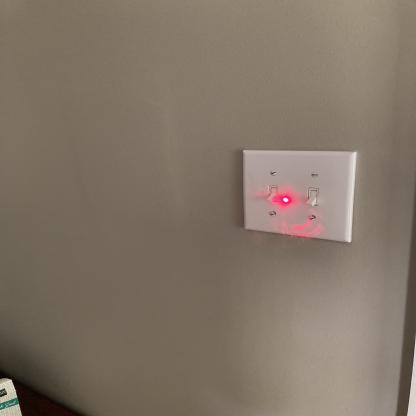target: (274, 190, 295, 208)
